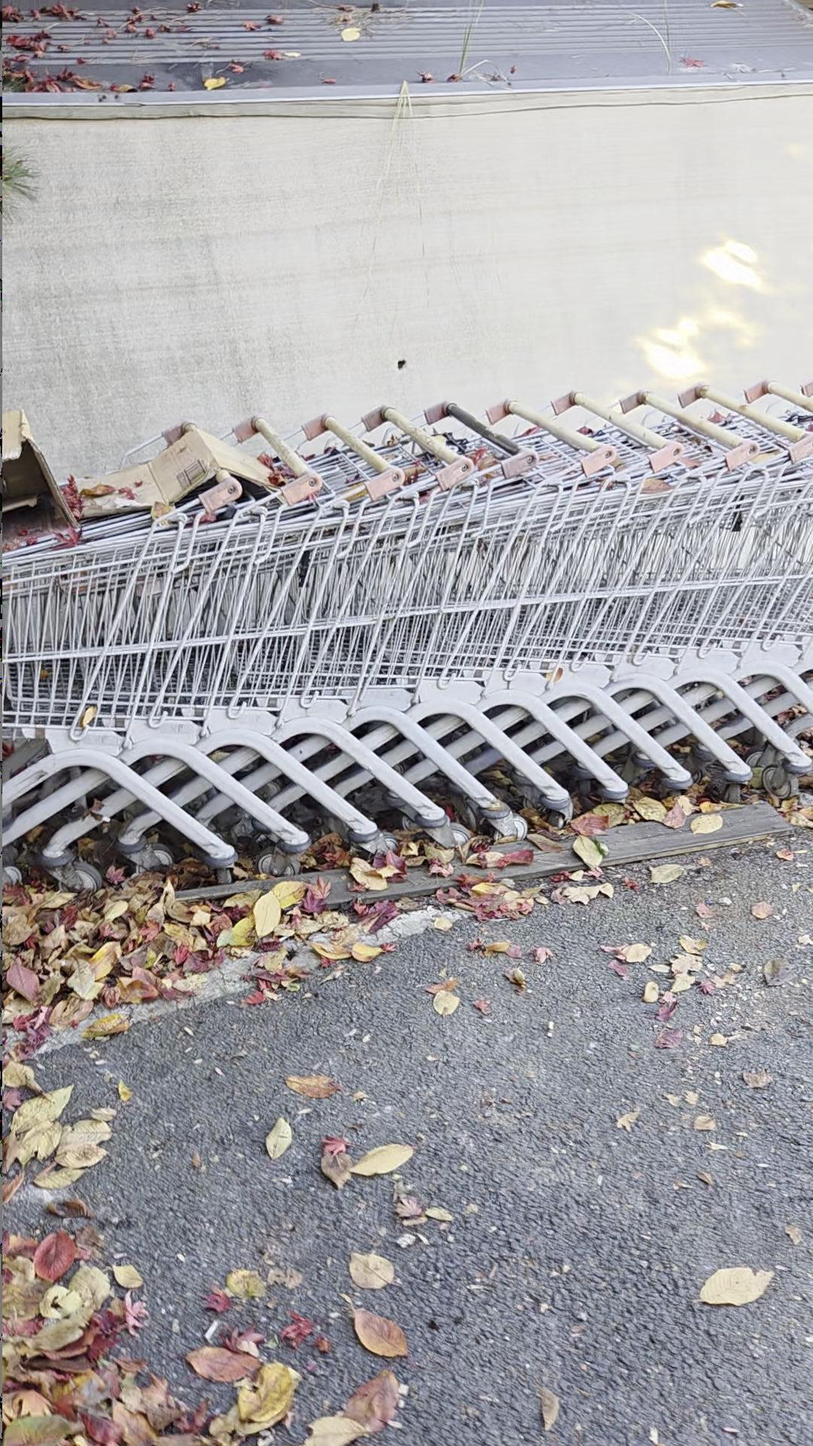combined_cart: (1, 377, 812, 883)
